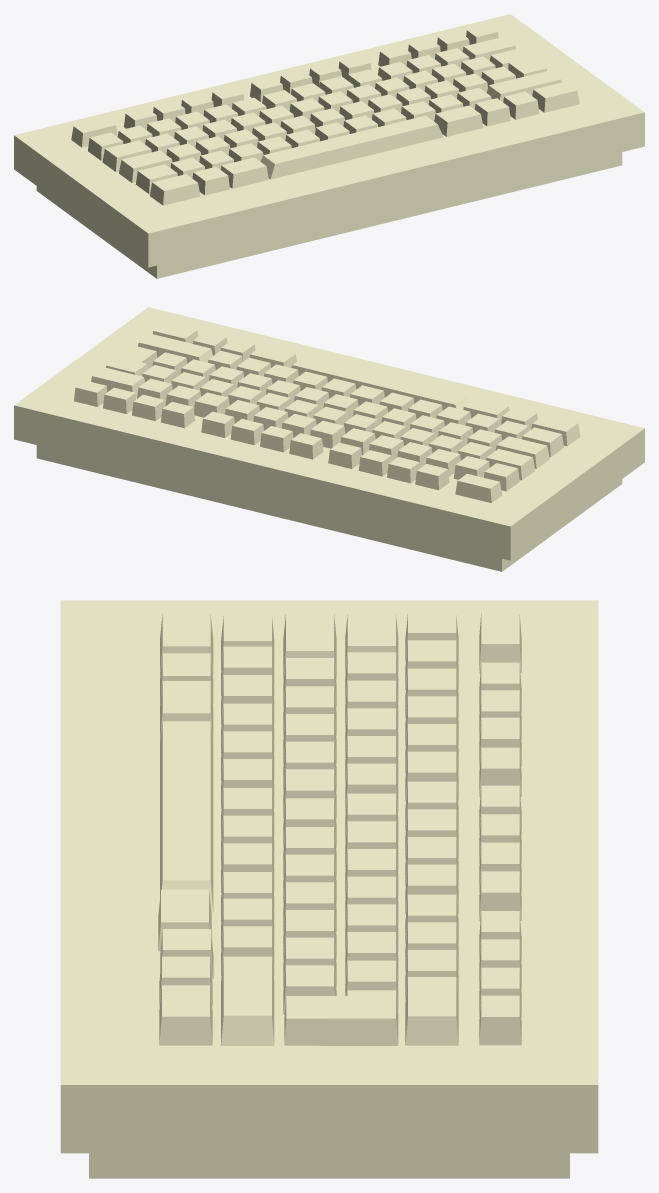
File: tastiera_con_texture.fbx
3 renders of one model, top to bottom at view 1: azimuth 30°, elevation 25°; view 2: azimuth 150°, elevation 25°; view 3: azimuth 270°, elevation 25°, orthographic. The views are drawn at different scales.
Visible parts, largest first — view 1: pPlane112; view 2: pPlane112; view 3: pPlane112.
Boxes of the visible parts, box(x1,y1,x2,y2) form: pPlane112: box(14, 14, 644, 278); pPlane112: box(14, 307, 644, 571); pPlane112: box(60, 600, 598, 1178).
Bounding box in the file's own units: 6.44 × 0.8431 × 3.02.
